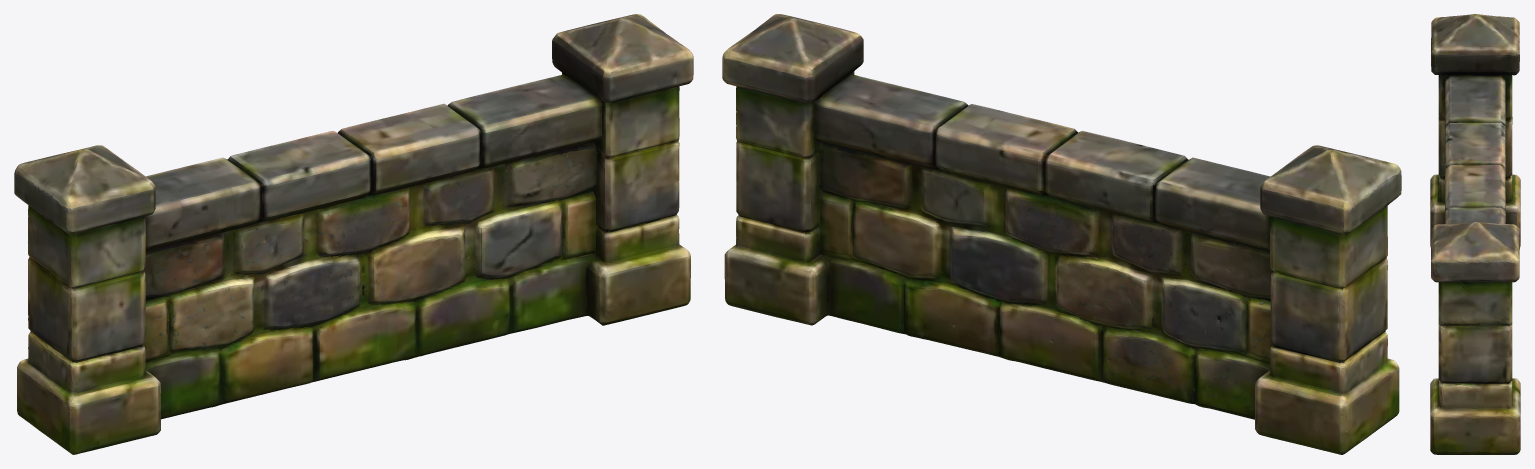
Rendered from sonteWallWithMesh_00001_.glb.
The picture shows the model from 3 angles, left to right: view 1: azimuth 30°, elevation 25°; view 2: azimuth 150°, elevation 25°; view 3: azimuth 270°, elevation 25°; orthographic projection. The views are drawn at different scales.
Visible parts, largest first — view 1: geometry_0; view 2: geometry_0; view 3: geometry_0.
Part boxes in pixels (x1,y1,x2,y2): geometry_0: (14, 14, 693, 454); geometry_0: (722, 14, 1401, 454); geometry_0: (1430, 14, 1520, 454).
Size of the model in its own units: 0.9999 by 0.4211 by 0.1582.
1 material, 1 textured.
